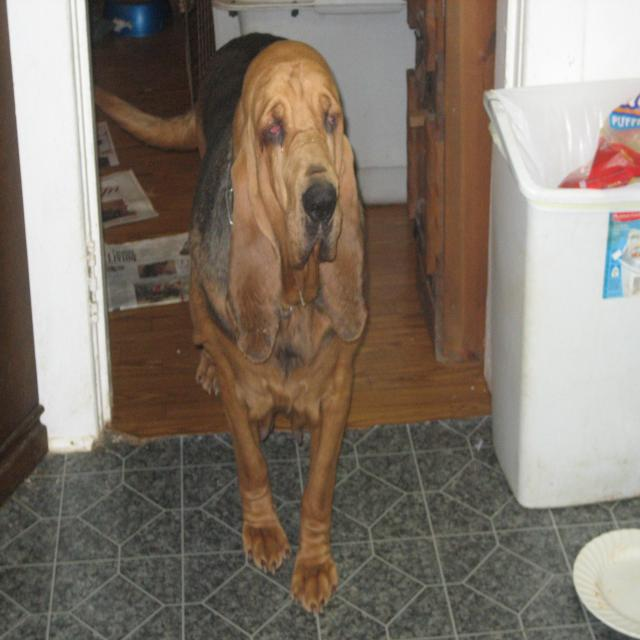bloodhound: (90, 29, 366, 619)
